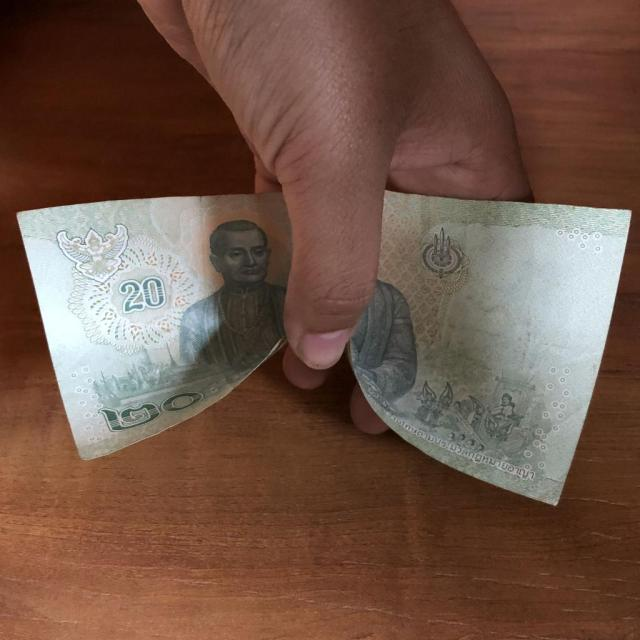THAI20: (347, 190, 633, 508), (15, 192, 292, 462)
